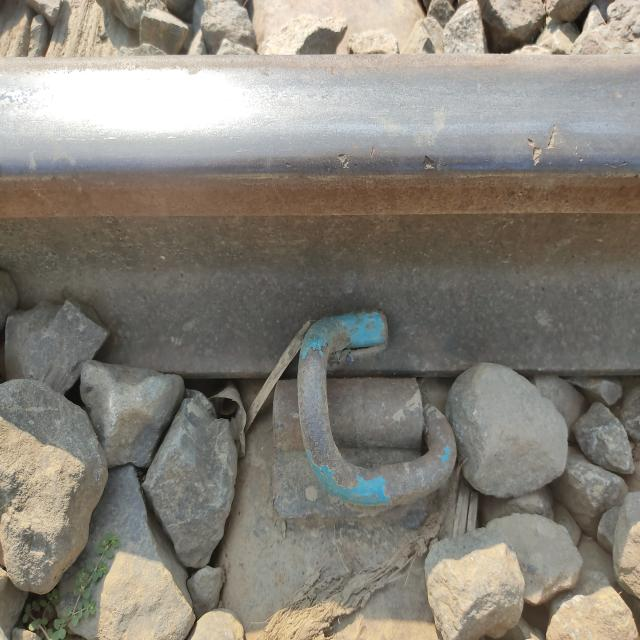non-defective: (173, 52, 514, 501)
